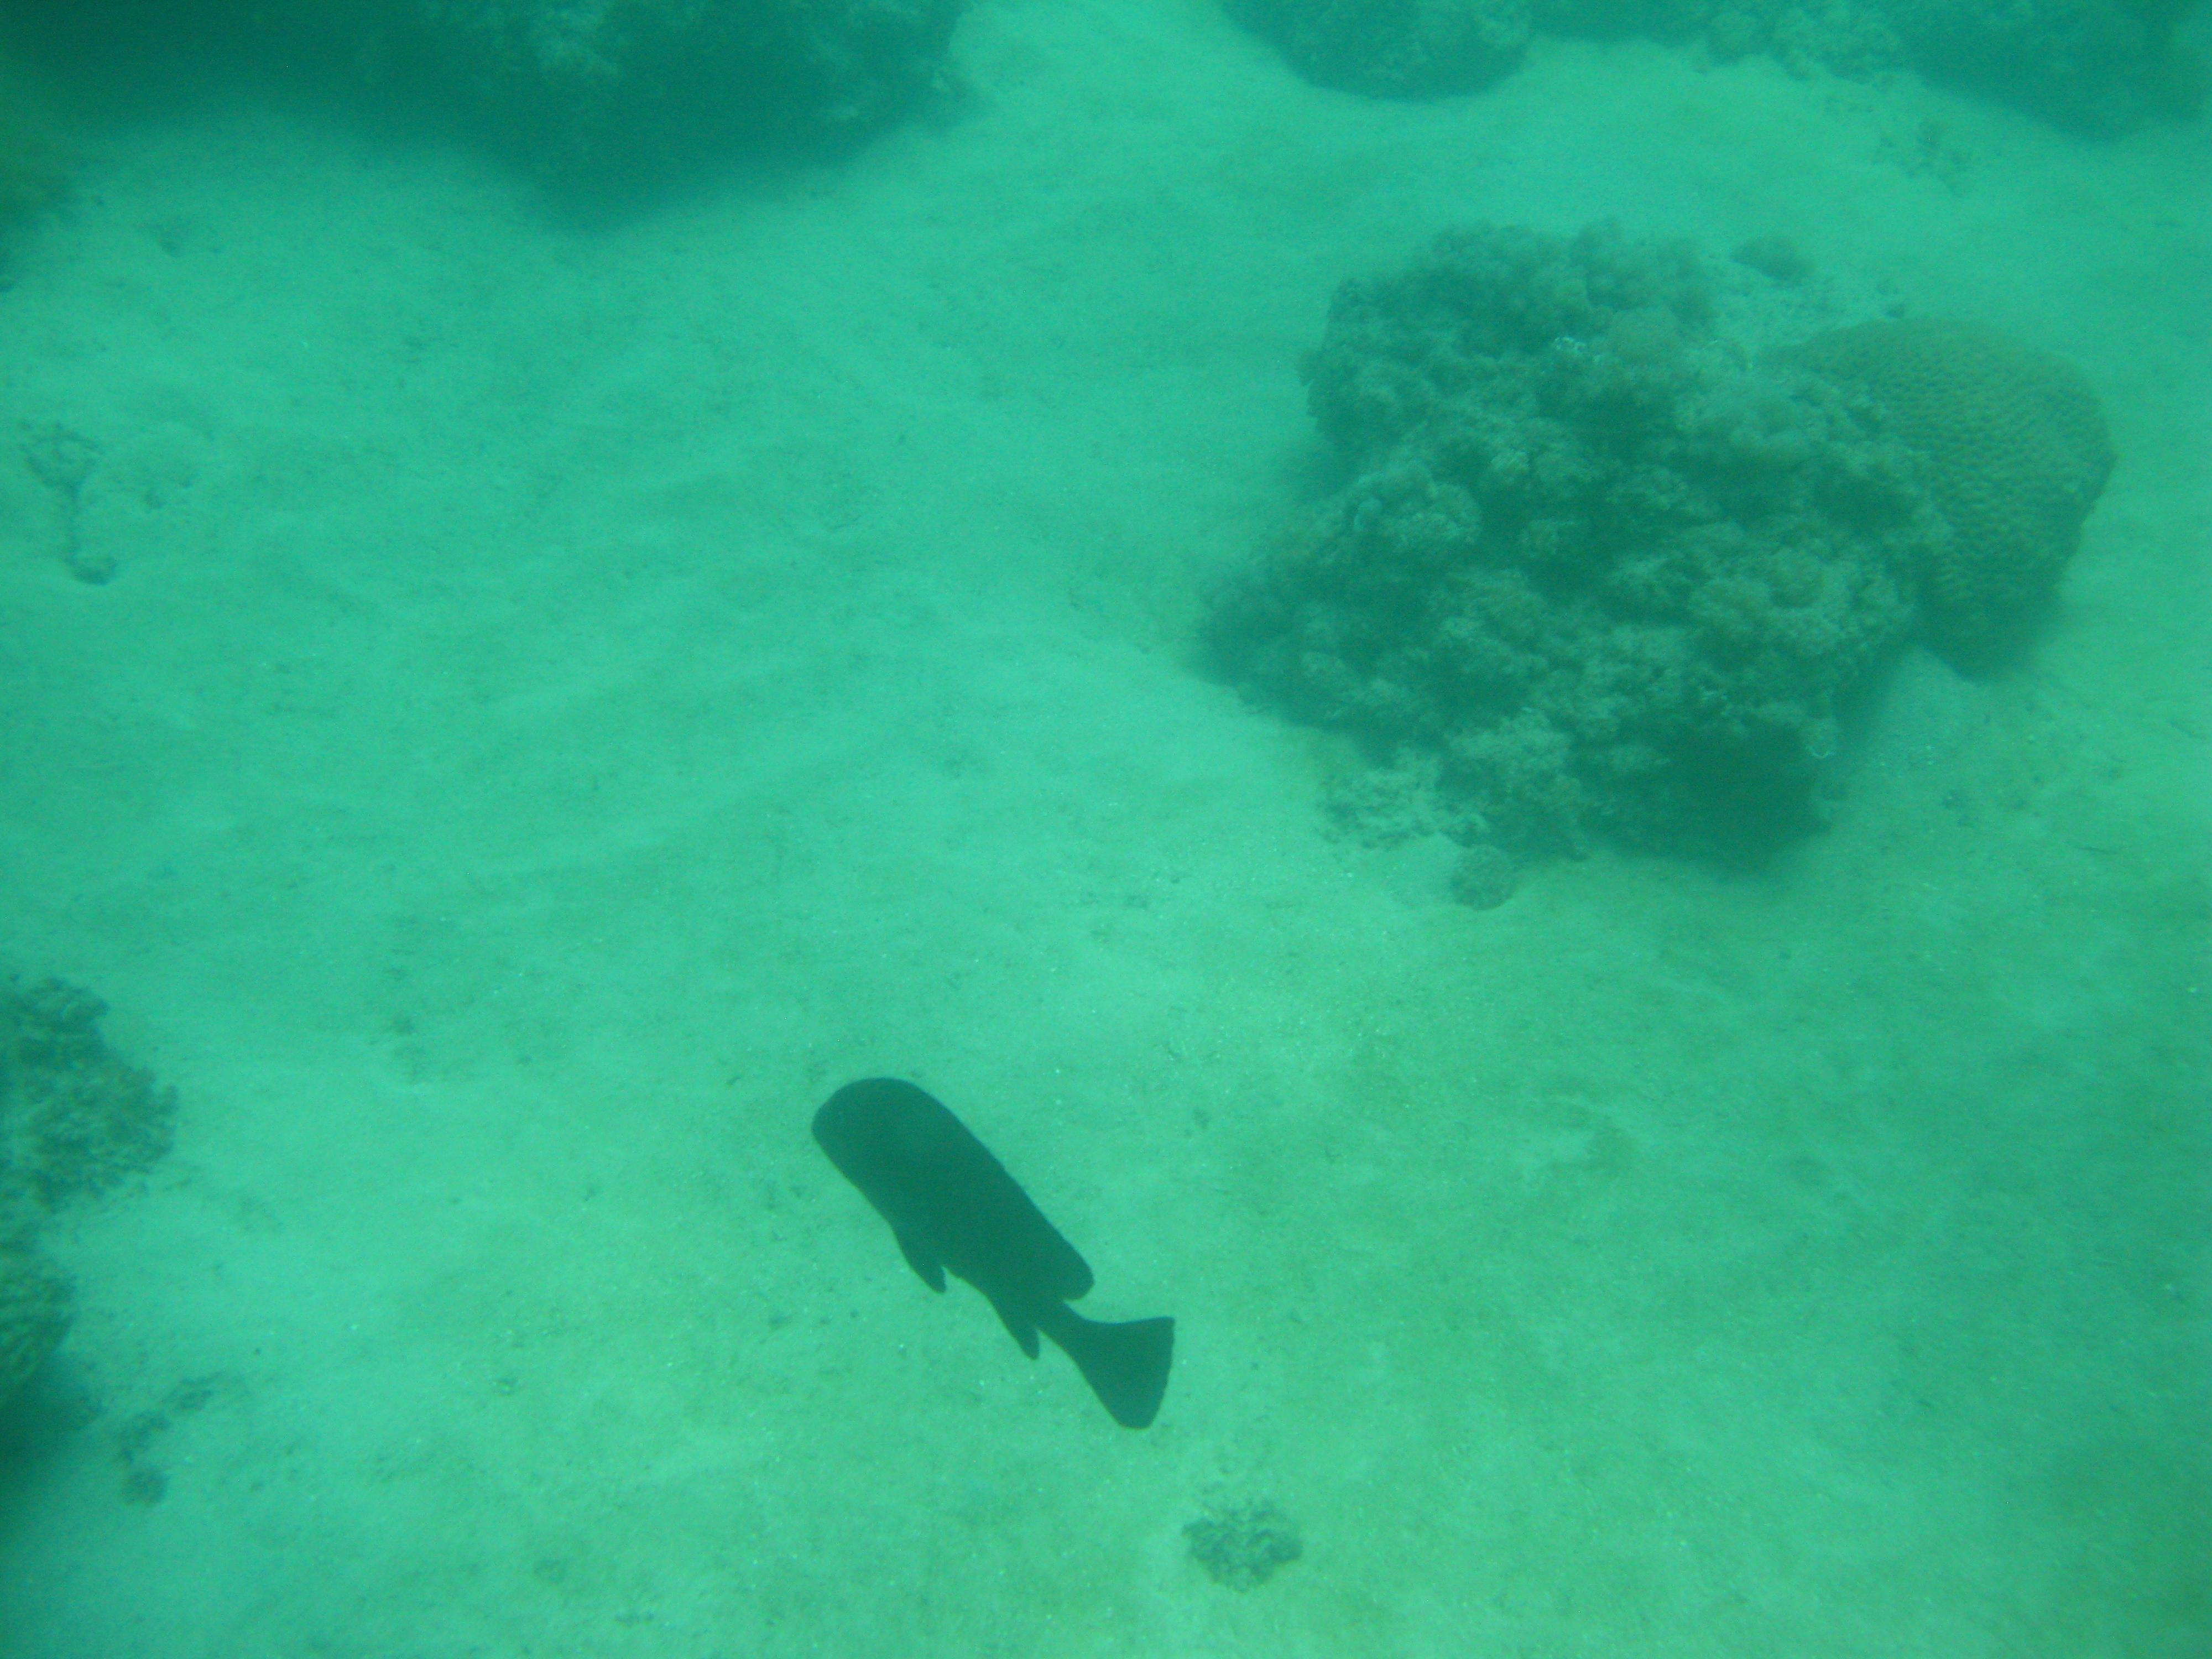Fish: (1416, 763, 1940, 1070)
